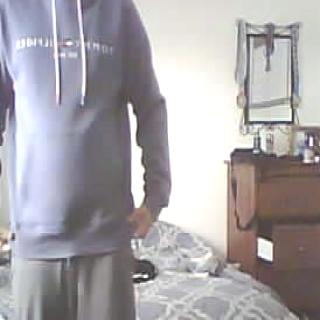Blue Hoodie: (0, 0, 170, 253)
Gray Sweatpants: (5, 248, 138, 320)
